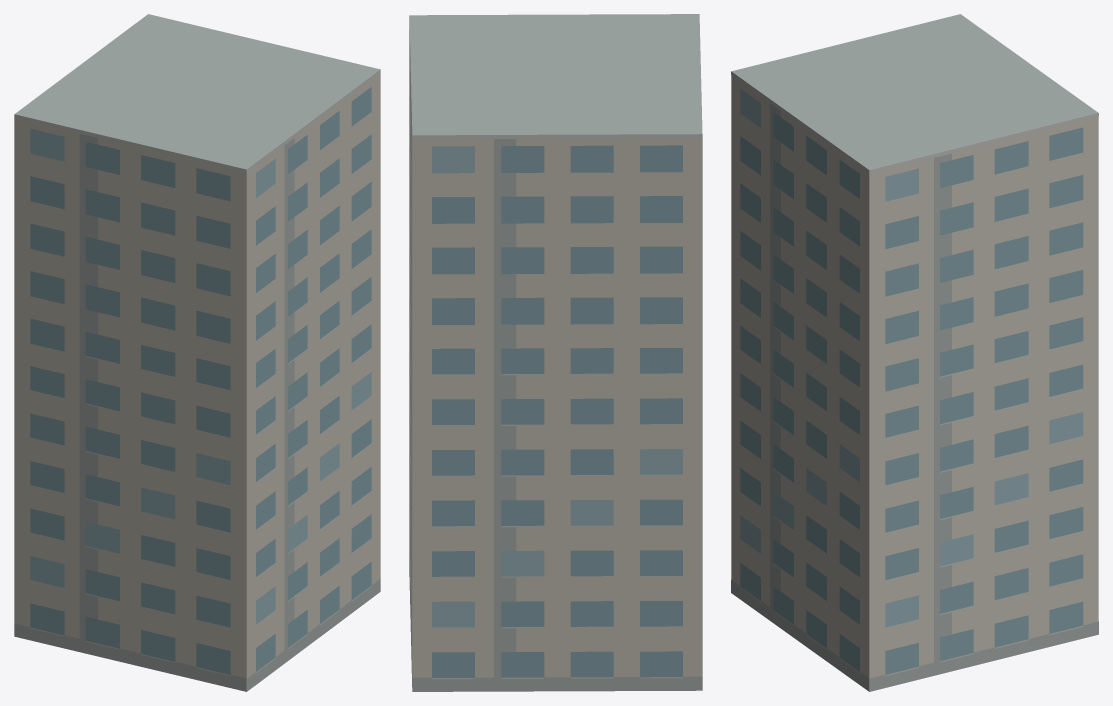
The model's file is residential-b5293a50-ed6b-4444-8c60-fbba62c9d4ef.glb.
3 views of the same model, side by side, from view 1: azimuth 30°, elevation 25°; view 2: azimuth 150°, elevation 25°; view 3: azimuth 270°, elevation 25° (orthographic). The views are drawn at different scales.
Parts seen in each view (by area): view 1: residential-b5293a50-ed6b-4444-8c60-fbba62c9d4ef.tmp; view 2: residential-b5293a50-ed6b-4444-8c60-fbba62c9d4ef.tmp; view 3: residential-b5293a50-ed6b-4444-8c60-fbba62c9d4ef.tmp.
Part boxes in pixels (x1,y1,x2,y2): residential-b5293a50-ed6b-4444-8c60-fbba62c9d4ef.tmp: (14,14,380,691); residential-b5293a50-ed6b-4444-8c60-fbba62c9d4ef.tmp: (409,14,702,691); residential-b5293a50-ed6b-4444-8c60-fbba62c9d4ef.tmp: (731,14,1098,691).
Size of the model in its own units: 21.21 by 33 by 21.08.
